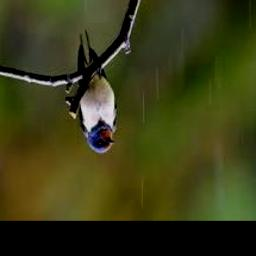Swallow: (77, 30, 118, 153)
